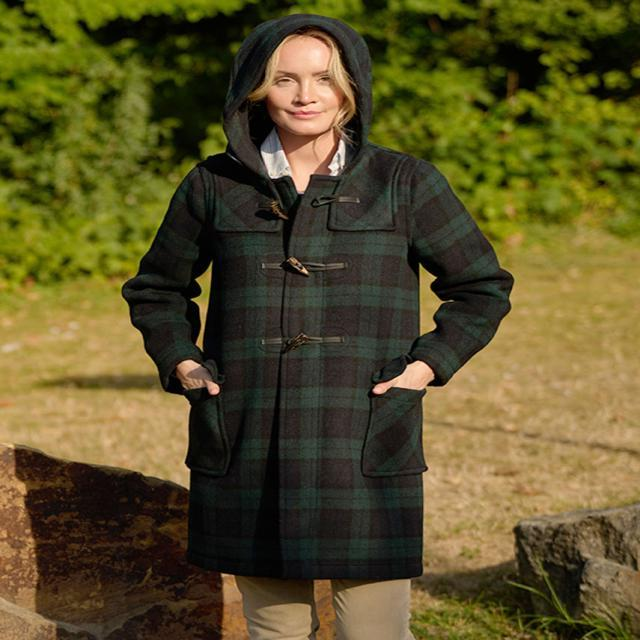coat: (119, 14, 518, 587)
trousers: (229, 566, 423, 640)
